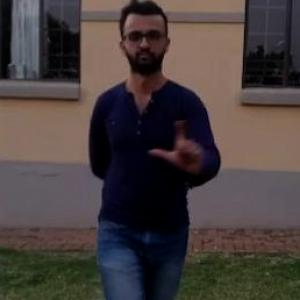land_hand: (147, 112, 208, 176)
